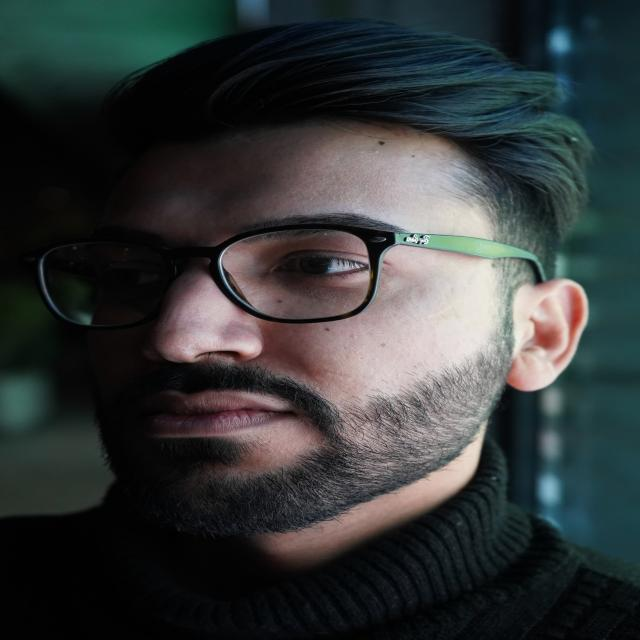adult: (0, 18, 607, 640)
